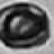correct: (0, 2, 49, 48)
